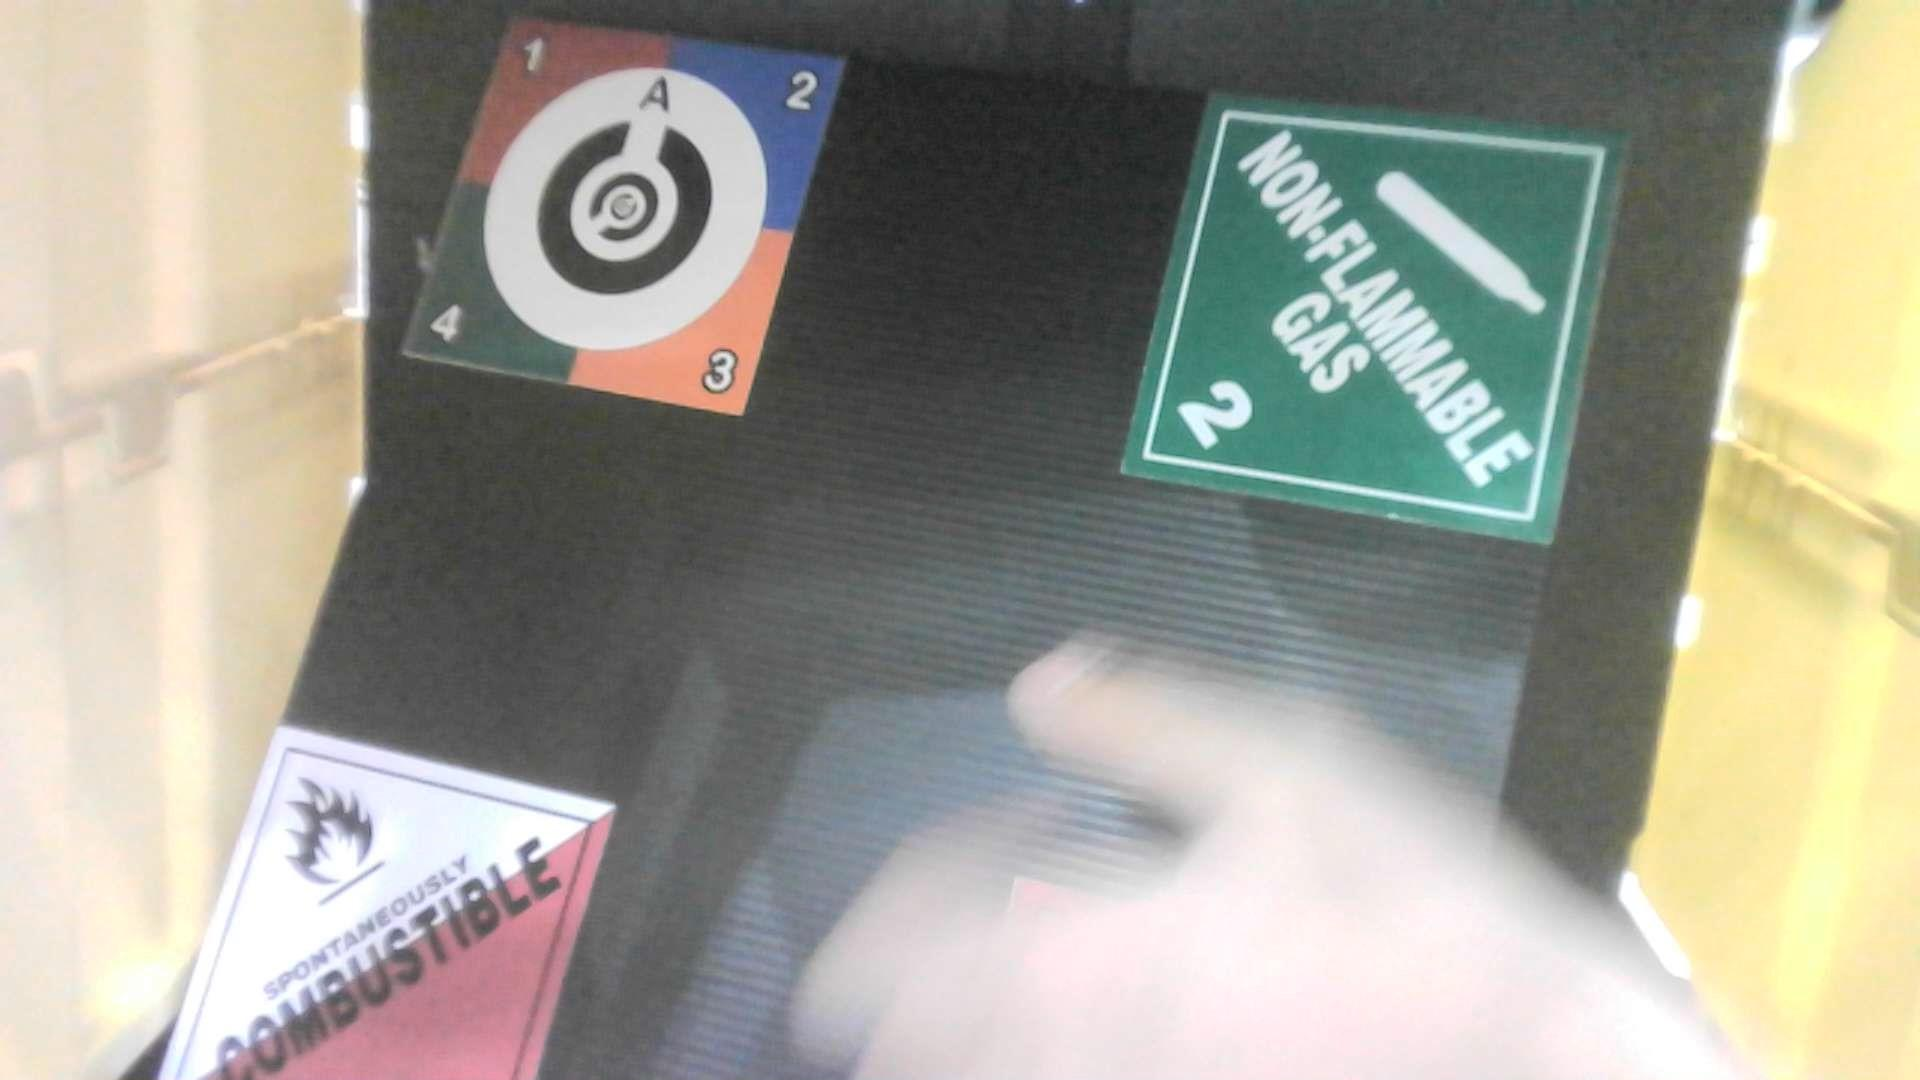non-flammable-gas: (1098, 73, 1642, 560)
spontaneously-combustible: (112, 698, 651, 1080)
